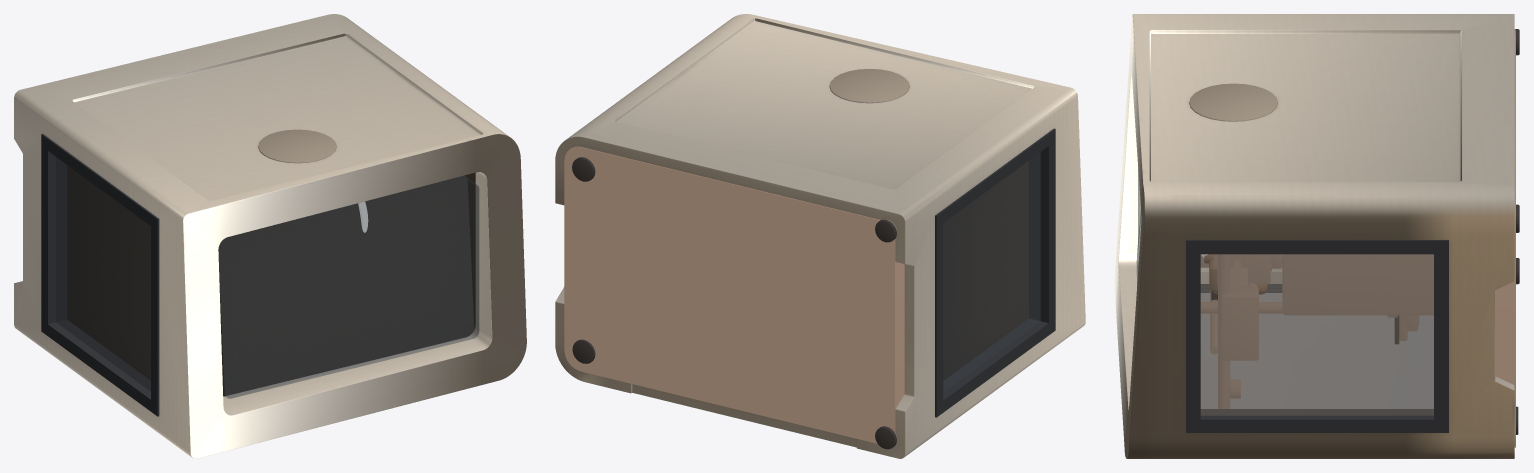
File: deltrol_p2s_explorer_v26.glb
The picture shows the model from 3 angles, left to right: view 1: azimuth 30°, elevation 25°; view 2: azimuth 150°, elevation 25°; view 3: azimuth 270°, elevation 25°; orthographic projection. The views are drawn at different scales.
Parts seen in each view (by area): view 1: unibody_shell, top_roof_glass, interior_ceiling_liner, left_glass_window, interior_left_back_baffle, left_window_gasket, rear_exhaust_shroud; view 2: unibody_shell, chassis_recessed_plinth, left_glass_window, interior_left_back_baffle, left_window_gasket, rear_exhaust_shroud; view 3: unibody_shell, right_glass_window, right_glass_sheen, front_glass_door, right_window_gasket, interior_rear_electronics_box, x_gantry_crossbeam, chassis_recessed_plinth, rear_exhaust_shroud, x_guide_front, toolhead_chassis.
Boxes of the visible parts, <box> form: unibody_shell: <box>14,14,526,458</box>; top_roof_glass: <box>218,176,479,398</box>; interior_ceiling_liner: <box>218,172,475,396</box>; left_glass_window: <box>56,157,150,391</box>; interior_left_back_baffle: <box>67,165,150,380</box>; left_window_gasket: <box>41,133,159,416</box>; rear_exhaust_shroud: <box>258,129,336,163</box>; unibody_shell: <box>555,14,1085,458</box>; chassis_recessed_plinth: <box>564,146,904,443</box>; left_glass_window: <box>943,152,1040,391</box>; interior_left_back_baffle: <box>943,161,1028,380</box>; left_window_gasket: <box>935,128,1055,417</box>; rear_exhaust_shroud: <box>829,69,909,103</box>; unibody_shell: <box>1114,14,1514,458</box>; right_glass_window: <box>1201,254,1433,414</box>; right_glass_sheen: <box>1201,255,1433,414</box>; front_glass_door: <box>1201,289,1433,408</box>; right_window_gasket: <box>1186,240,1448,432</box>; interior_rear_electronics_box: <box>1201,254,1433,314</box>; x_gantry_crossbeam: <box>1221,260,1258,360</box>; chassis_recessed_plinth: <box>1494,36,1515,447</box>; rear_exhaust_shroud: <box>1189,83,1277,121</box>; x_guide_front: <box>1201,254,1397,408</box>; toolhead_chassis: <box>1213,254,1270,284</box>.
Bounding box in the file's own units: 0.426 × 0.2955 × 0.3818.
Materials: 18 (11 with a texture image).
